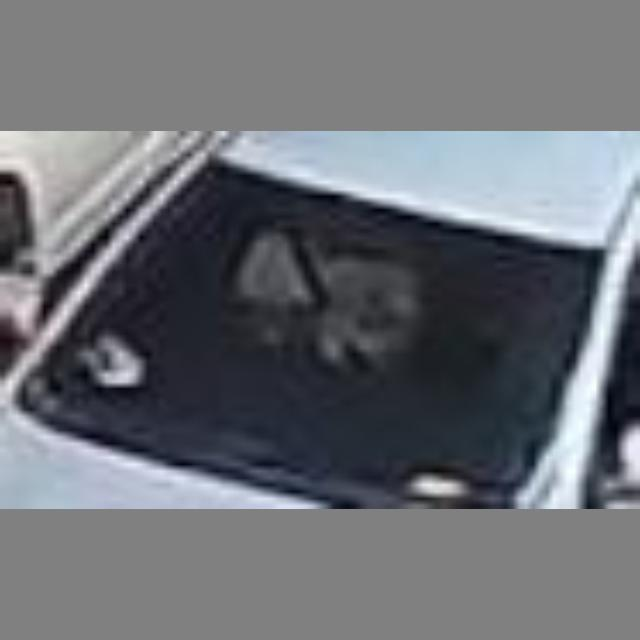pakai: (234, 234, 399, 372)
